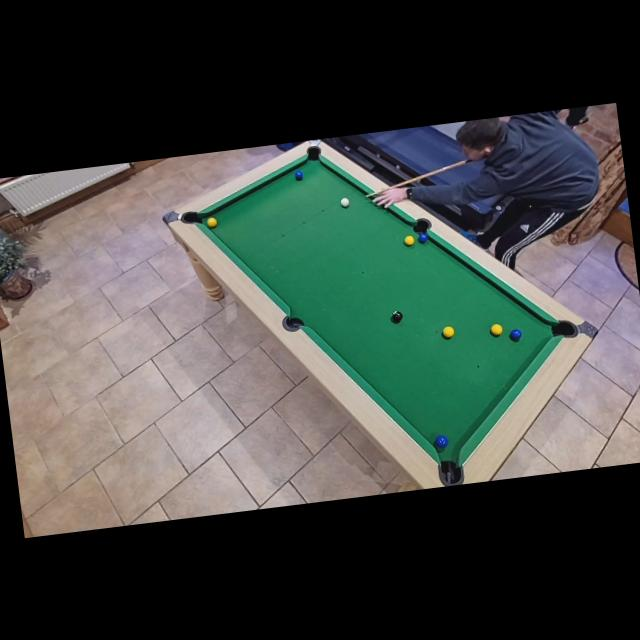Ball: (433, 434, 448, 448), (490, 323, 503, 336), (442, 325, 454, 338), (416, 232, 428, 244), (391, 310, 403, 322), (206, 216, 218, 227), (510, 328, 520, 341), (340, 196, 350, 208), (404, 235, 414, 246), (294, 170, 304, 180)
